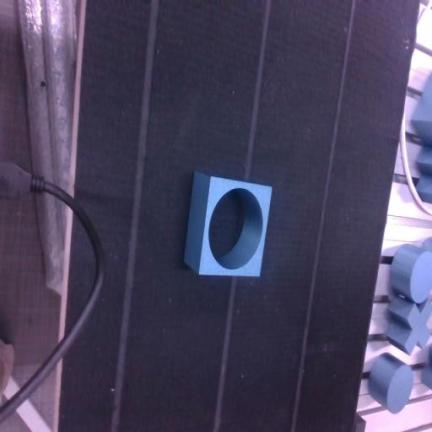hole: (185, 173, 271, 276)
